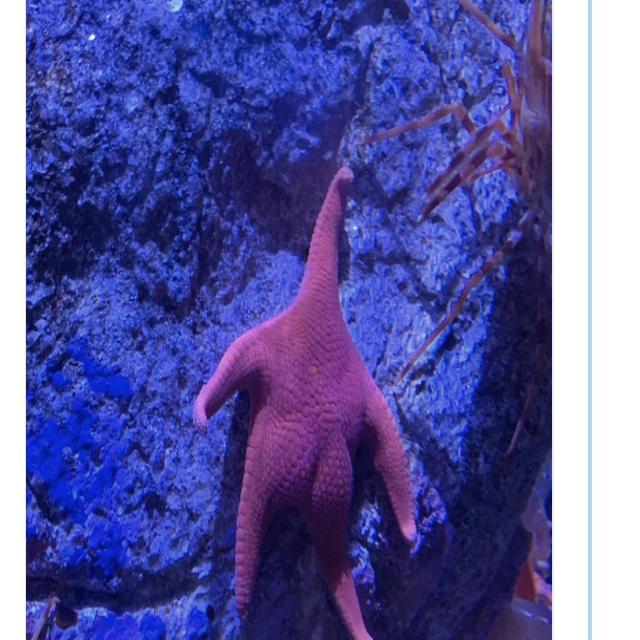starfish: (194, 167, 417, 639)
